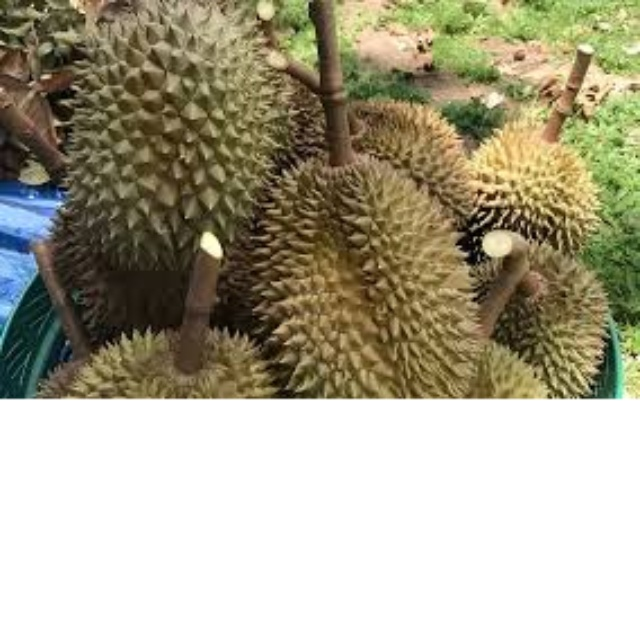sau_rieng: (63, 4, 286, 269), (248, 157, 481, 398)
